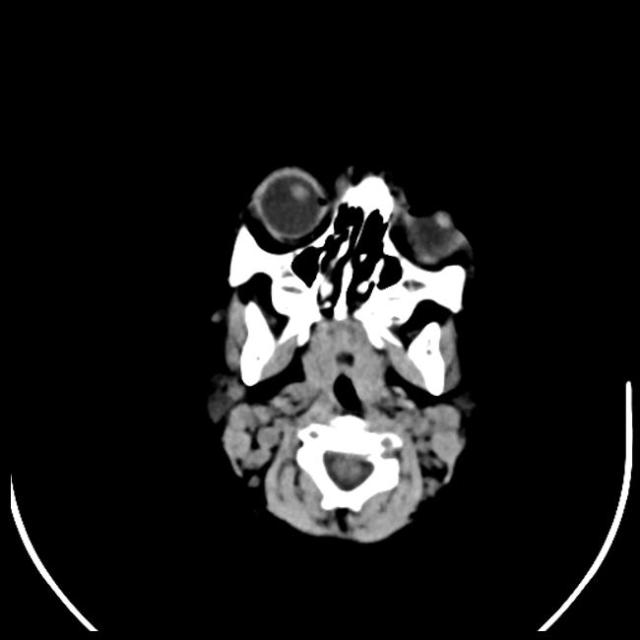lesion: (370, 362, 463, 486)
